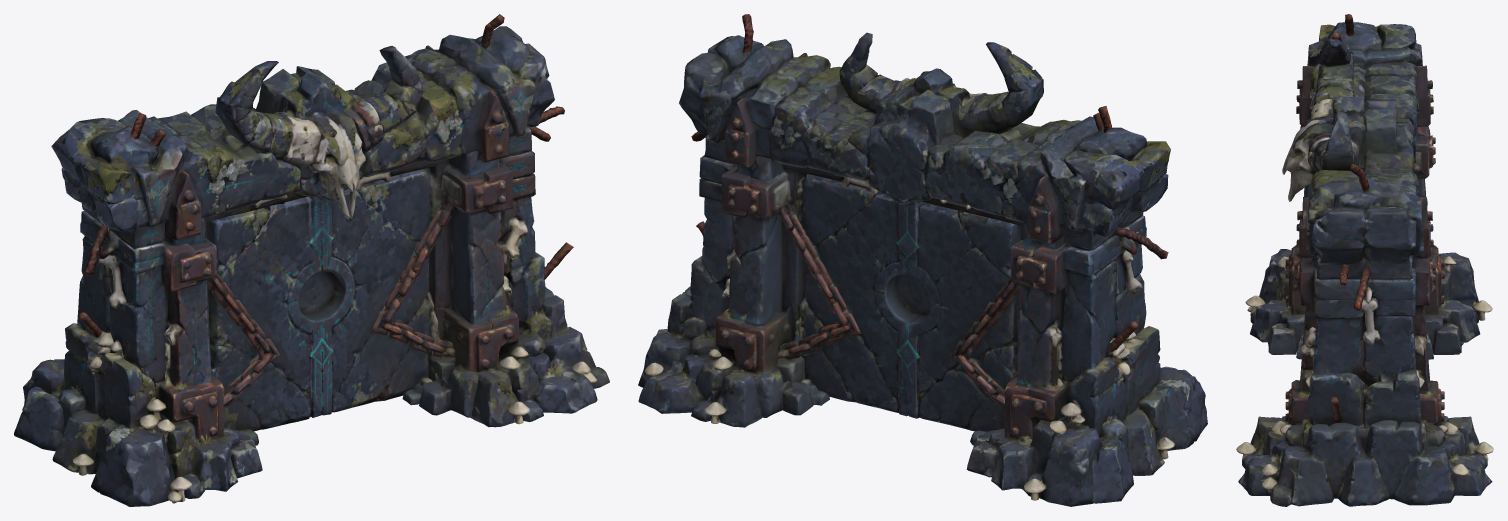
The model's file is boss_door_night_rocks.glb.
The picture shows the model from 3 angles, left to right: view 1: azimuth 30°, elevation 25°; view 2: azimuth 150°, elevation 25°; view 3: azimuth 270°, elevation 25°; orthographic projection. The views are drawn at different scales.
Parts seen in each view (by area): view 1: tripo_node_5b382006-fb07-4446-92a8-af148dcfcf0d; view 2: tripo_node_5b382006-fb07-4446-92a8-af148dcfcf0d; view 3: tripo_node_5b382006-fb07-4446-92a8-af148dcfcf0d.
Boxes of the visible parts, x1,y1,x2,y2 form: tripo_node_5b382006-fb07-4446-92a8-af148dcfcf0d: [14, 14, 609, 506]; tripo_node_5b382006-fb07-4446-92a8-af148dcfcf0d: [638, 14, 1207, 506]; tripo_node_5b382006-fb07-4446-92a8-af148dcfcf0d: [1236, 14, 1493, 506].
Bounding box in the file's own units: 1 × 0.7106 × 0.4985.
1 material, 1 textured.
